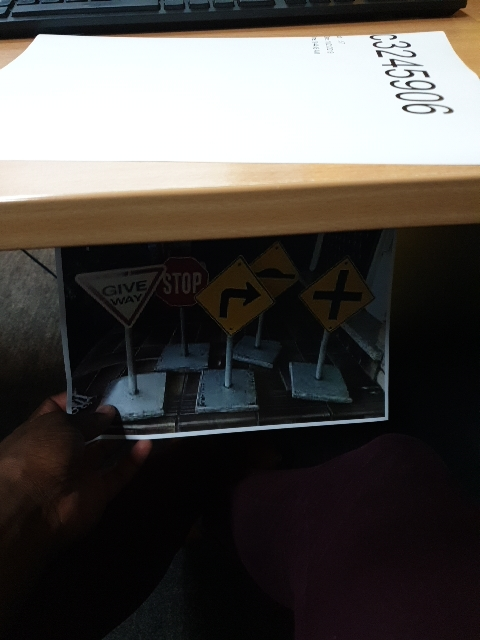giveway: (70, 264, 175, 334)
right: (197, 261, 287, 340)
